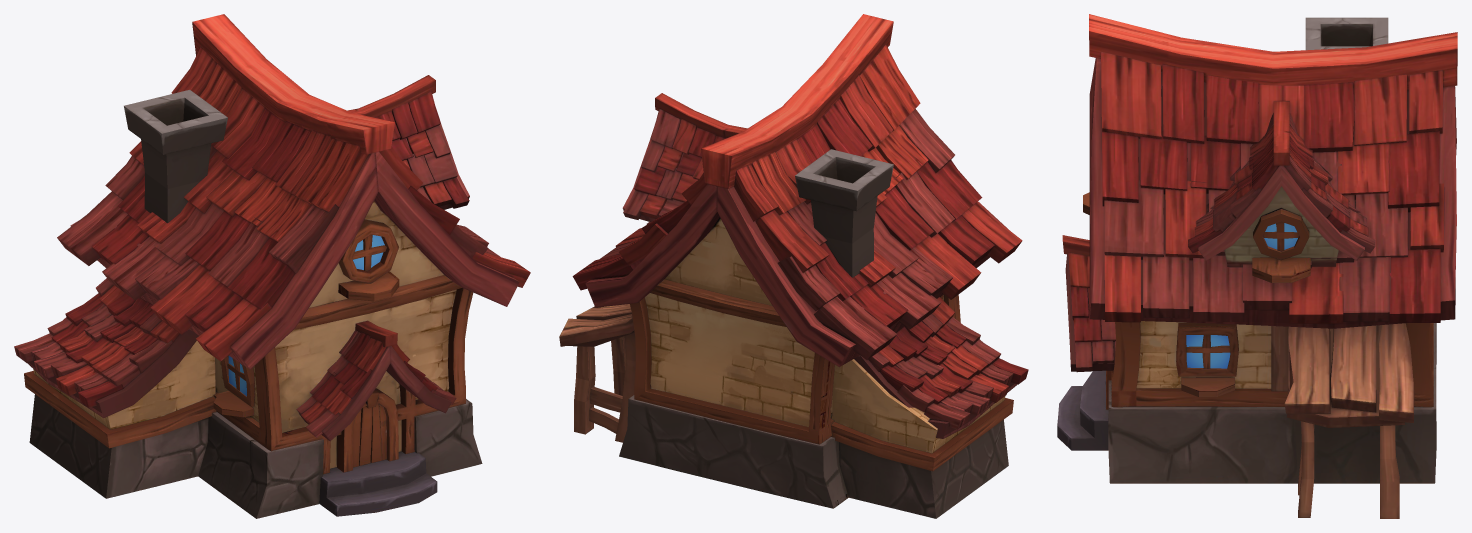
Rendered from house.glb.
The picture shows the model from 3 angles, left to right: view 1: azimuth 30°, elevation 25°; view 2: azimuth 150°, elevation 25°; view 3: azimuth 270°, elevation 25°; orthographic projection. The views are drawn at different scales.
Visible parts, largest first — view 1: Stylized_House_Roof, Stylized_House_Main; view 2: Stylized_House_Roof, Stylized_House_Main; view 3: Stylized_House_Roof, Stylized_House_Main.
Boxes of the visible parts, x1,y1,x2,y2 form: Stylized_House_Roof: (14,14,530,441); Stylized_House_Main: (24,89,482,518); Stylized_House_Roof: (559,14,1028,442); Stylized_House_Main: (619,149,1013,518); Stylized_House_Roof: (1062,14,1457,518); Stylized_House_Main: (1057,17,1436,483).
Size of the model in its own units: 5.49 by 4.69 by 4.22.
2 materials, 2 textured.
